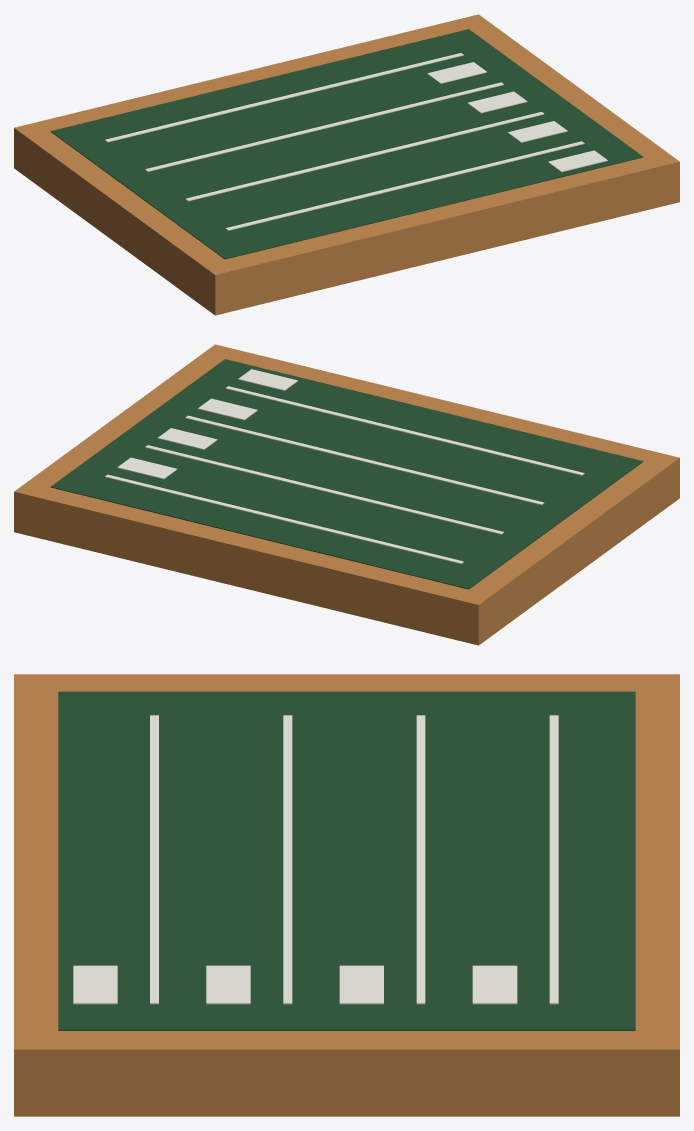
The model's file is betting_board.glb.
3 views of the same model, one above another, from view 1: azimuth 30°, elevation 25°; view 2: azimuth 150°, elevation 25°; view 3: azimuth 270°, elevation 25° (orthographic). The views are drawn at different scales.
Parts seen in each view (by area): view 1: board_chalkboard, board_wood, chalk_chalk; view 2: board_chalkboard, board_wood, chalk_chalk; view 3: board_chalkboard, board_wood, chalk_chalk.
Part boxes in pixels (x1,y1,x2,y2): board_chalkboard: [50, 29, 643, 259]; board_wood: [14, 14, 679, 315]; chalk_chalk: [105, 53, 607, 230]; board_chalkboard: [50, 359, 643, 589]; board_wood: [14, 344, 679, 645]; chalk_chalk: [105, 369, 584, 563]; board_chalkboard: [58, 691, 635, 1030]; board_wood: [14, 674, 679, 1116]; chalk_chalk: [73, 715, 558, 1004].
Size of the model in its own units: 0.6 by 0.054 by 0.45.
